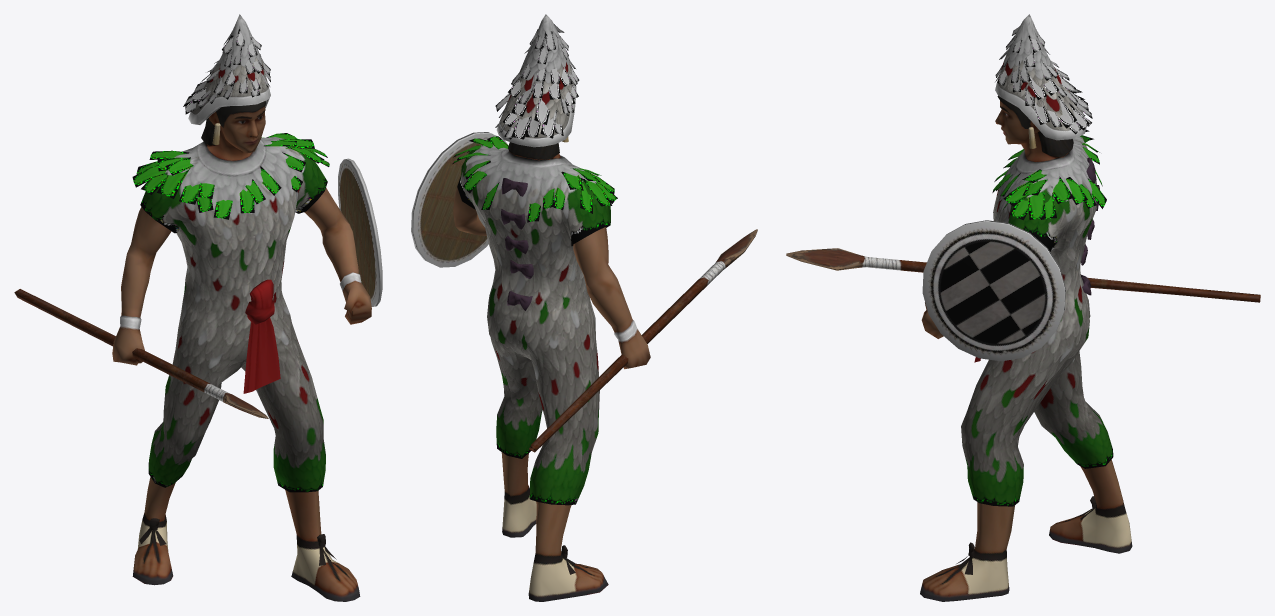
File: 162-tlamanihspearman.glb
3 views of the same model, side by side, from view 1: azimuth 30°, elevation 25°; view 2: azimuth 150°, elevation 25°; view 3: azimuth 270°, elevation 25° (orthographic). The views are drawn at different scales.
Size of the model in its own units: 1.01 by 2.28 by 1.77.
4 materials, 4 textured.
